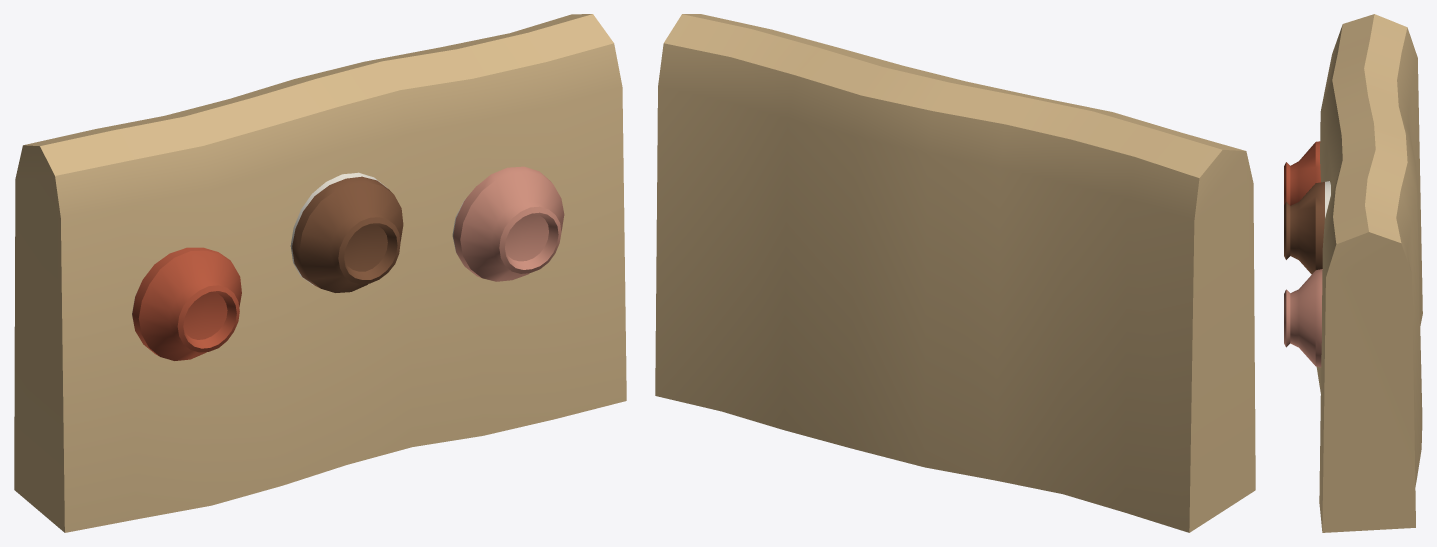
The model's file is deco_clay_wall_pots.fbx.
3 renders of one model, left to right at view 1: azimuth 30°, elevation 25°; view 2: azimuth 150°, elevation 25°; view 3: azimuth 270°, elevation 25°, orthographic. The views are drawn at different scales.
Visible parts, largest first — view 1: ClayWall_Pots_Wall, ClayWall_Pots_Pots; view 2: ClayWall_Pots_Wall; view 3: ClayWall_Pots_Wall, ClayWall_Pots_Pots.
Part boxes in pixels (x1=…): ClayWall_Pots_Wall: x1=14, y1=14, x2=626, y2=532; ClayWall_Pots_Pots: x1=132, y1=166, x2=564, y2=360; ClayWall_Pots_Wall: x1=655, y1=14, x2=1255, y2=532; ClayWall_Pots_Wall: x1=1316, y1=14, x2=1422, y2=532; ClayWall_Pots_Pots: x1=1284, y1=141, x2=1330, y2=367.
Size of the model in its own units: 244 by 153 by 64.25.
